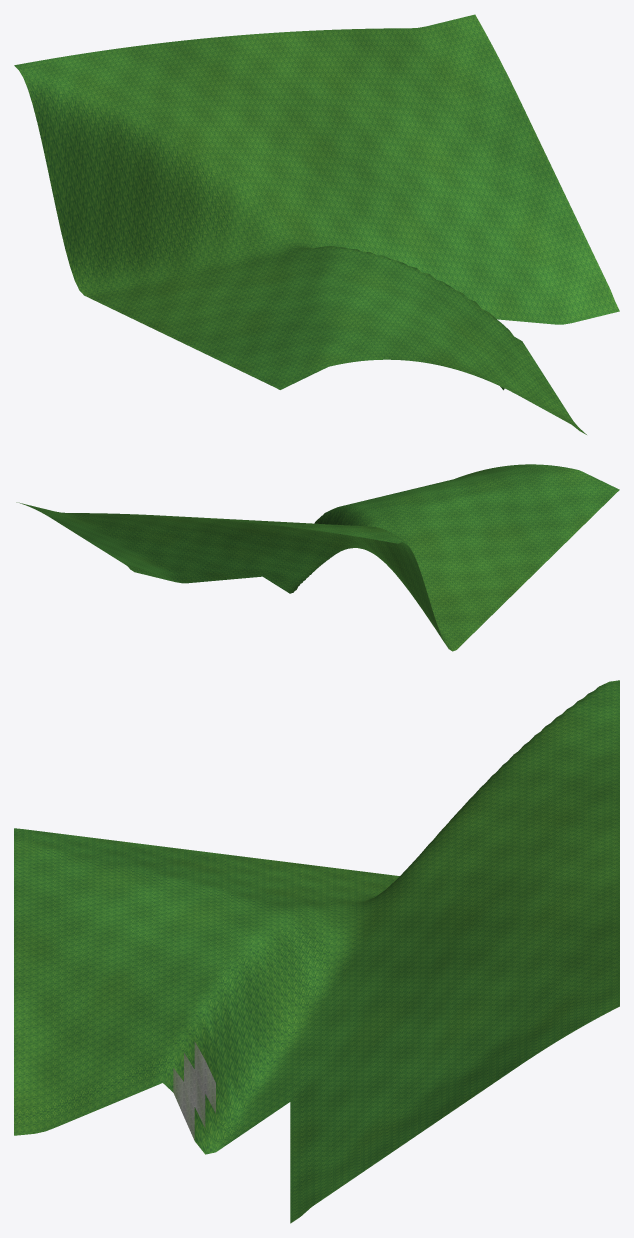
The model's file is payo_land_far_se.glb.
3 renders of one model, top to bottom at view 1: azimuth 30°, elevation 25°; view 2: azimuth 150°, elevation 25°; view 3: azimuth 270°, elevation 25°, orthographic. The views are drawn at different scales.
Parts seen in each view (by area): view 1: payo_land_far_se; view 2: payo_land_far_se; view 3: payo_land_far_se.
Part boxes in pixels (left/top/right/bottom): payo_land_far_se: left=14, top=14, right=619, bottom=434; payo_land_far_se: left=16, top=464, right=619, bottom=651; payo_land_far_se: left=14, top=680, right=619, bottom=1223.
Size of the model in its own units: 342 by 189 by 342.
Materials: 2 (2 with a texture image).
